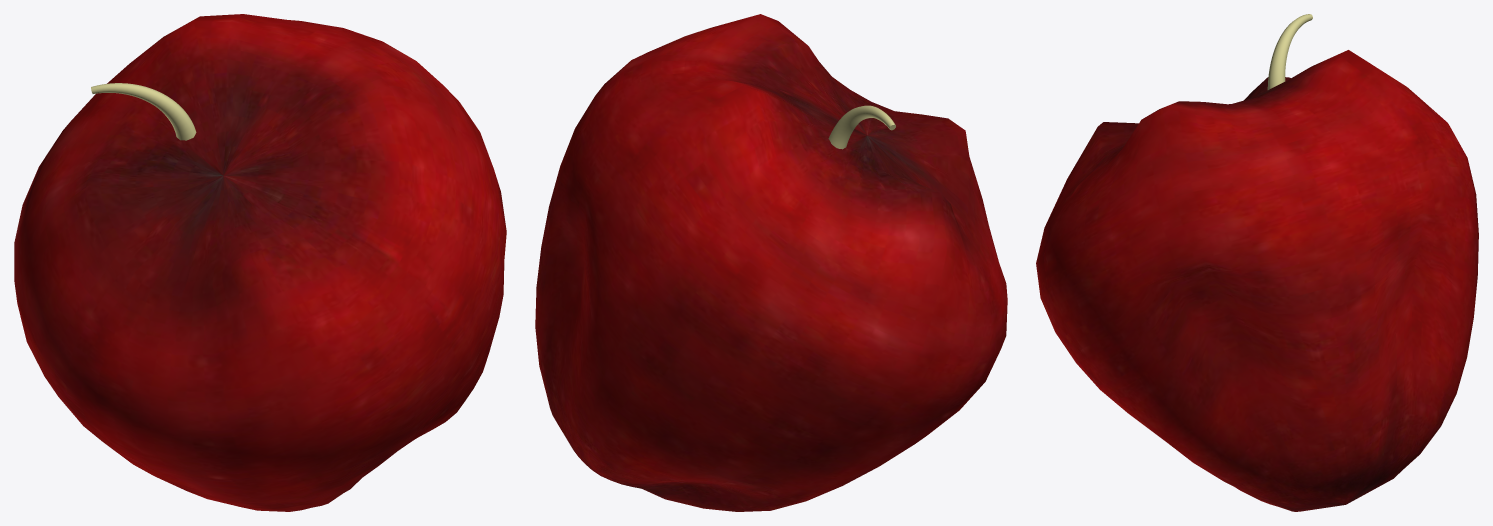
Rendered from apple.fbx.
3 renders of one model, left to right at view 1: azimuth 30°, elevation 25°; view 2: azimuth 150°, elevation 25°; view 3: azimuth 270°, elevation 25°, orthographic. The views are drawn at different scales.
Parts seen in each view (by area): view 1: apple, Cylinder01; view 2: apple, Cylinder01; view 3: apple, Cylinder01.
Part boxes in pixels (<box>): apple: <box>14,14,506,511</box>; Cylinder01: <box>91,83,196,140</box>; apple: <box>535,14,1007,511</box>; Cylinder01: <box>828,105,895,149</box>; apple: <box>1036,50,1478,511</box>; Cylinder01: <box>1267,14,1312,89</box>.
Bounding box in the file's own units: 50.06 × 53.05 × 51.07.
